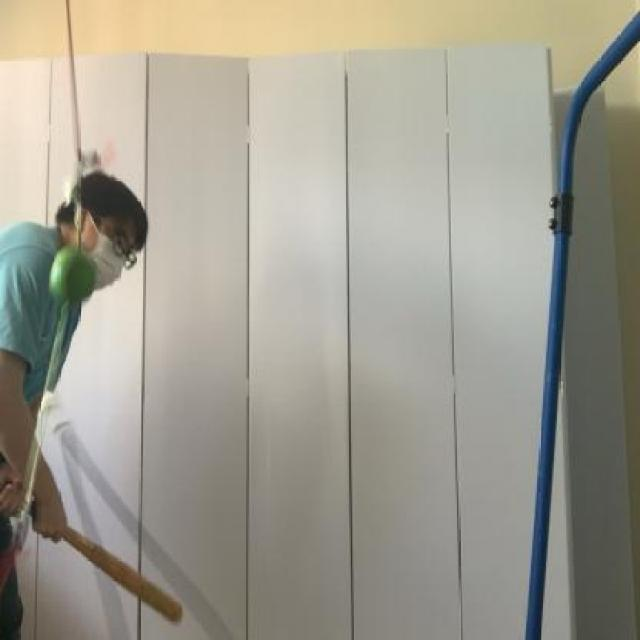baseball: (41, 242, 99, 309)
